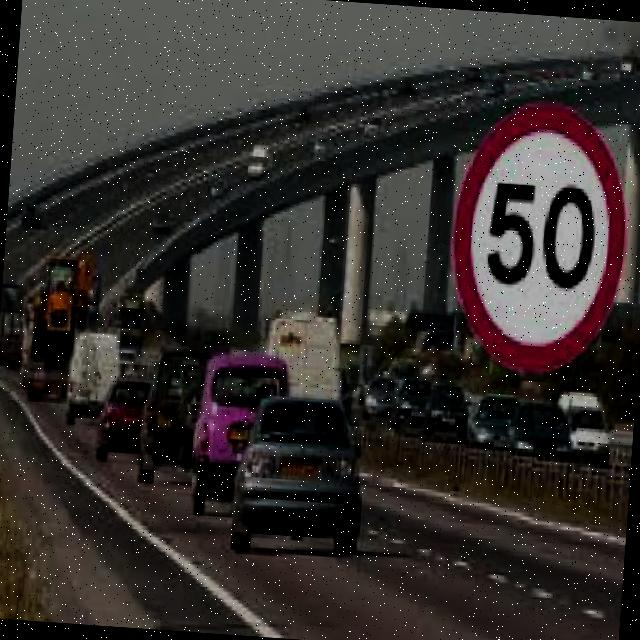Ograniczenie predkosci do 50: (440, 97, 630, 390)
